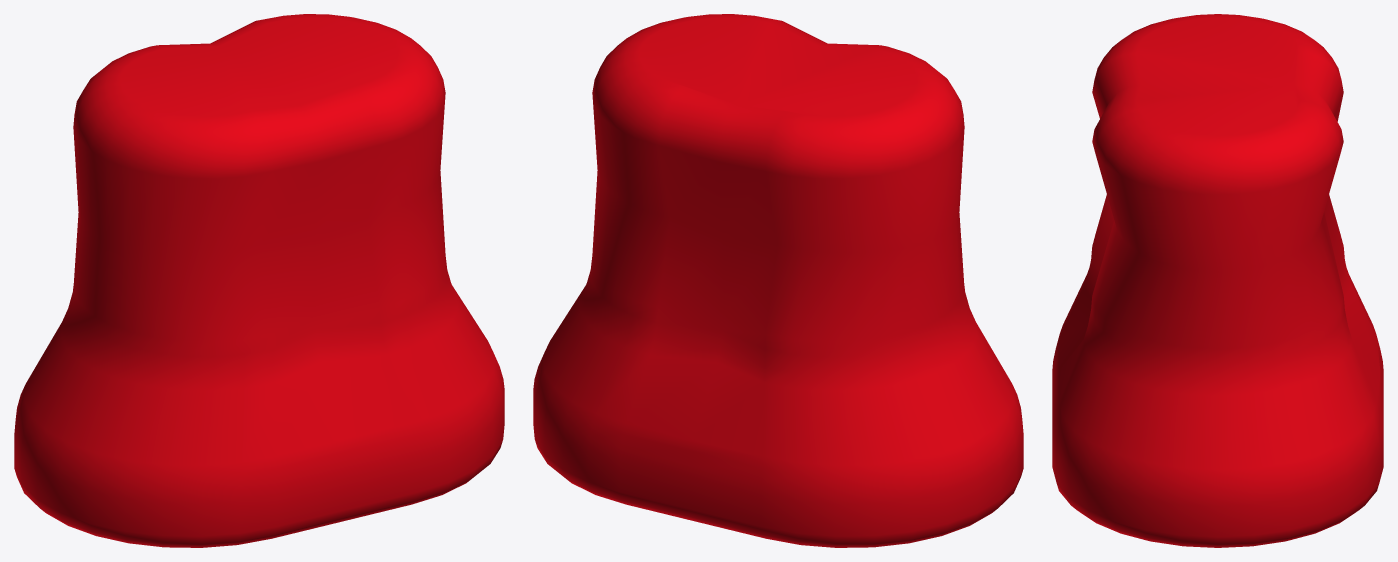
Rendered from Plucker.fbx.
The picture shows the model from 3 angles, left to right: view 1: azimuth 30°, elevation 25°; view 2: azimuth 150°, elevation 25°; view 3: azimuth 270°, elevation 25°; orthographic projection. The views are drawn at different scales.
Parts seen in each view (by area): view 1: Sucker Tool; view 2: Sucker Tool; view 3: Sucker Tool.
Boxes of the visible parts, x1,y1,x2,y2 form: Sucker Tool: (14, 14, 504, 547); Sucker Tool: (533, 14, 1023, 547); Sucker Tool: (1052, 14, 1383, 547).
Bounding box in the file's own units: 142 × 121 × 97.17.
